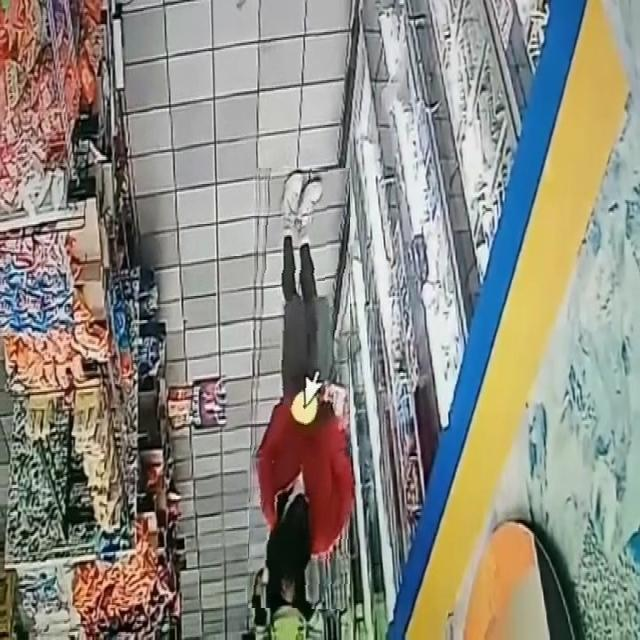Shoplifting: (250, 168, 350, 608)
